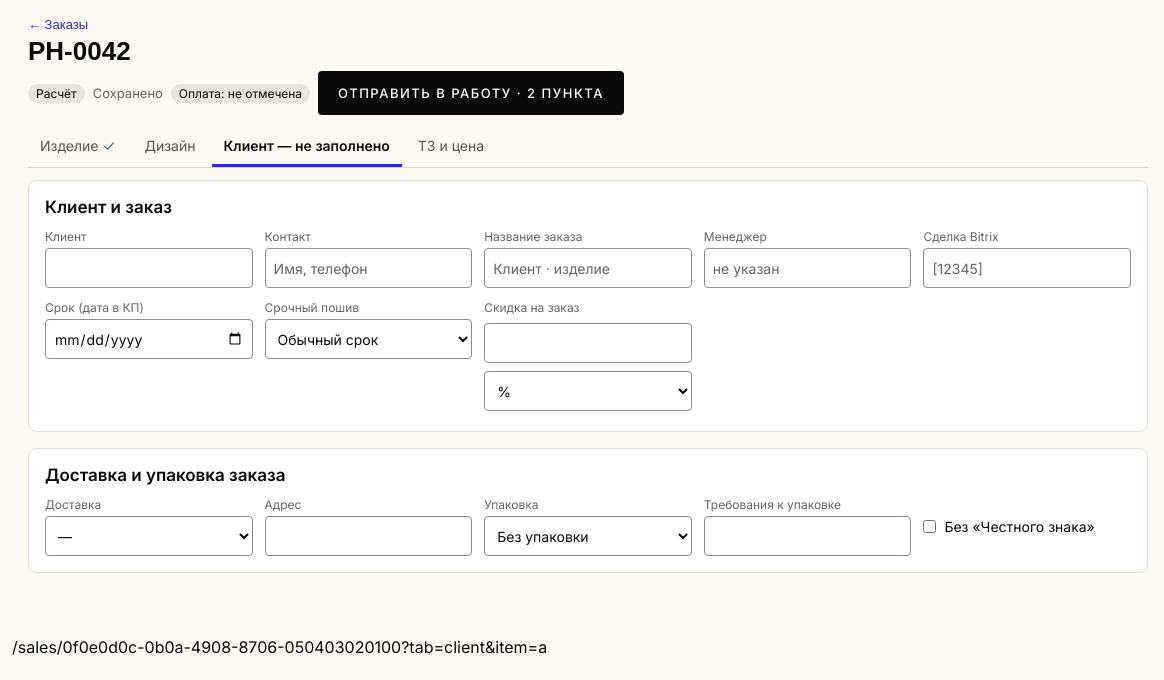
Test: OrderWorkplace — шапка отправки и оплаты › «Отправить в работу · 2 пункта» ведёт на ?tab=summary#send и фокусирует заголовок раздела
Expected: the text "Оплата: не отмечена" is shown, [171,84,310,102]
Note: Модель чек-листа — ленивый чанк: число пунктов появляется, когда он приехал
Click the button "Отправить в работу · 2 пункта" at (471, 93), box [318,71,624,115]
(page scrolled)
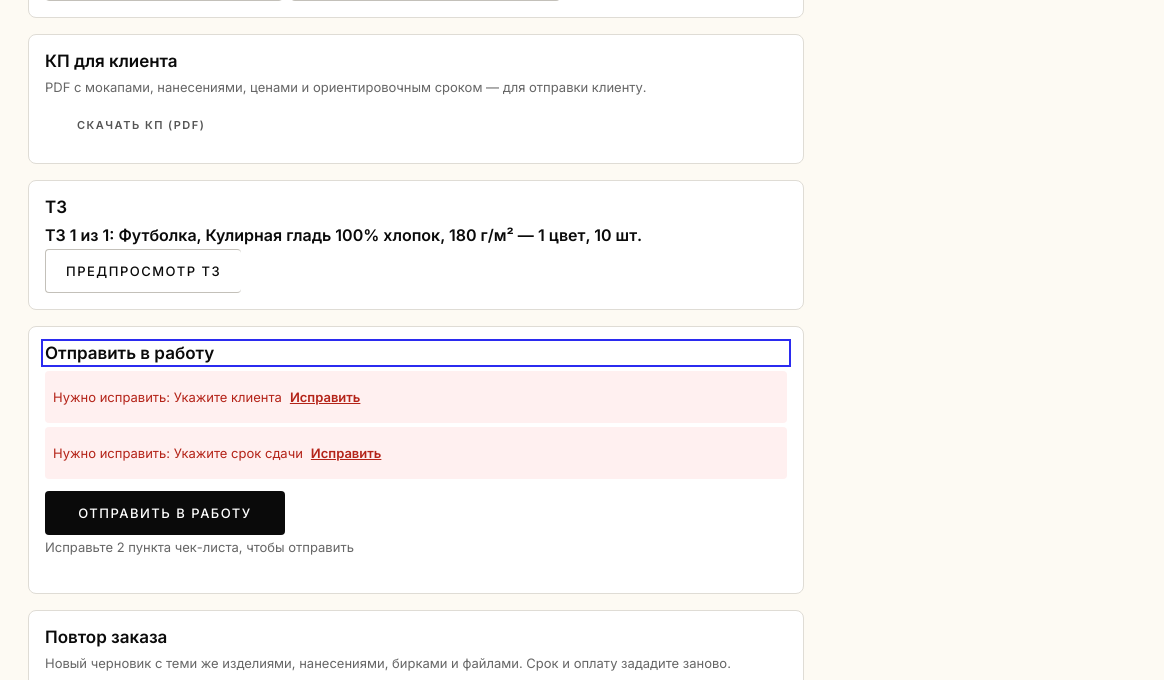
Expected: the heading "Отправить в работу" is shown, [45,343,787,363]
